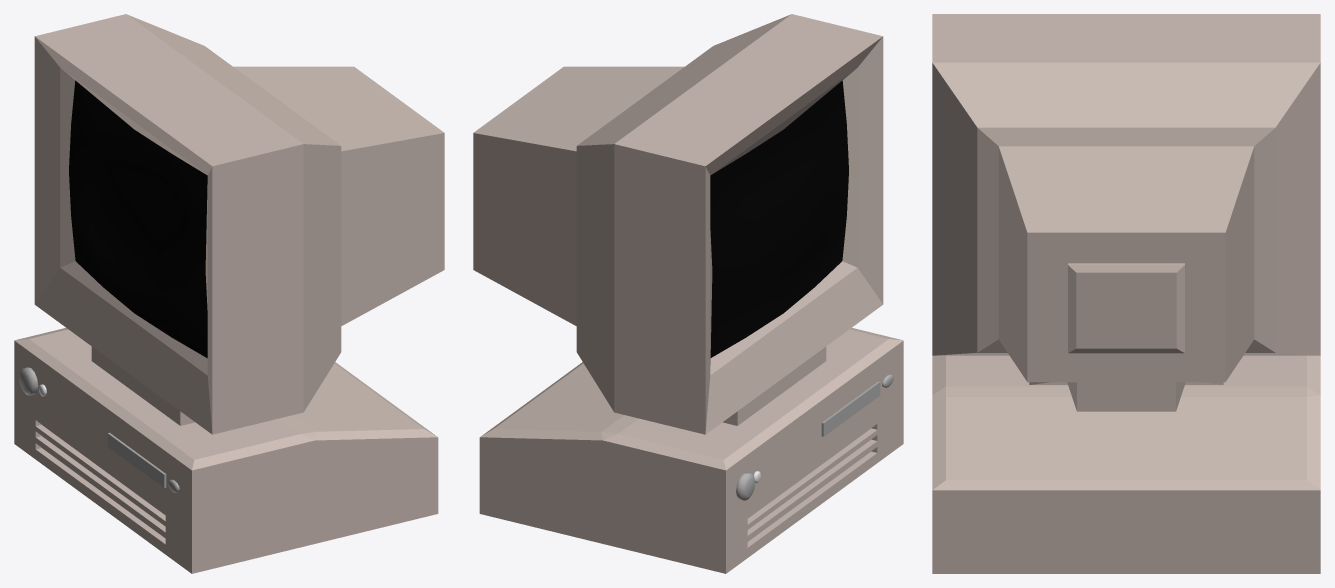
File: Computer.glb
The picture shows the model from 3 angles, left to right: view 1: azimuth 30°, elevation 25°; view 2: azimuth 150°, elevation 25°; view 3: azimuth 270°, elevation 25°; orthographic projection. The views are drawn at different scales.
Parts seen in each view (by area): view 1: COMPUTER_3.003, base.004, Cube.123; view 2: COMPUTER_3.003, base.004, Cube.123; view 3: COMPUTER_3.003, base.004.
Boxes of the visible parts, bbox=[...] form: COMPUTER_3.003: bbox=[34, 14, 444, 434]; base.004: bbox=[14, 328, 438, 573]; Cube.123: bbox=[107, 432, 166, 487]; COMPUTER_3.003: bbox=[473, 14, 883, 434]; base.004: bbox=[479, 328, 903, 573]; Cube.123: bbox=[821, 381, 880, 436]; COMPUTER_3.003: bbox=[932, 14, 1320, 411]; base.004: bbox=[932, 355, 1320, 573].
Bounding box in the file's own units: 2.41 × 3 × 2.4.
